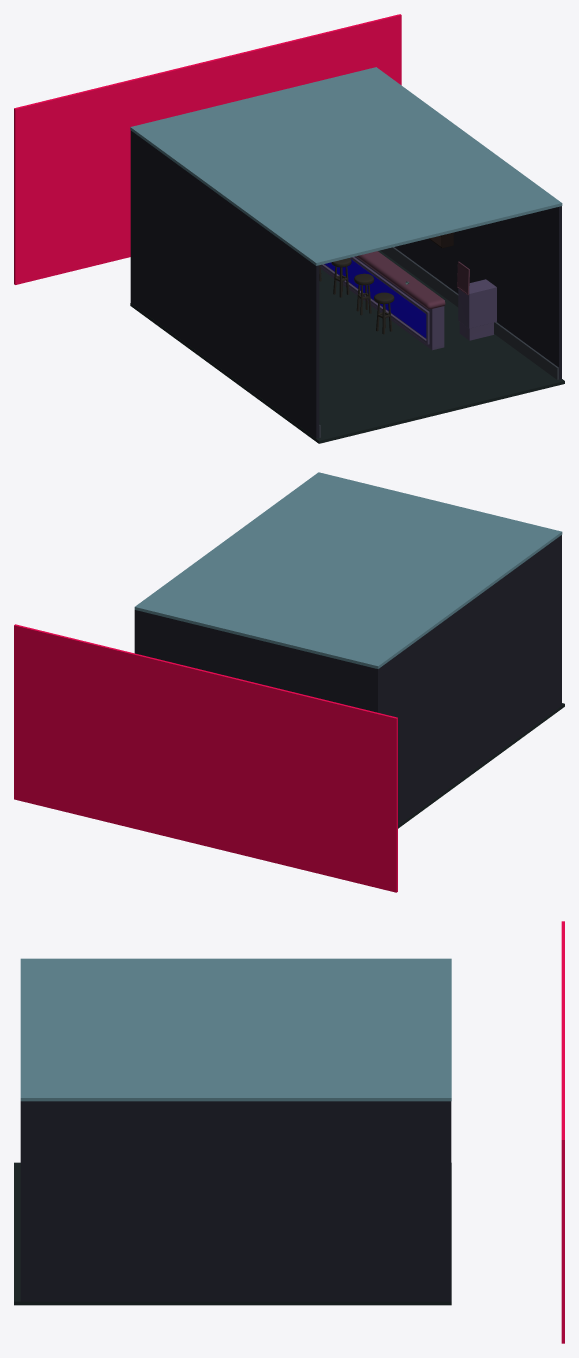
File: SciFiBar.obj
3 renders of one model, top to bottom at view 1: azimuth 30°, elevation 25°; view 2: azimuth 150°, elevation 25°; view 3: azimuth 270°, elevation 25°, orthographic. The views are drawn at different scales.
Parts seen in each view (by area): view 1: Floor2_Sky_0_173_0, Murallas_lambert5_0_155_0, Screen_Screen1_0_158_0, Floor1_Floor_0_171_0, polySurface12_Bar1_0_45_0, Murallas_Marco_0_156_0, Cuerpo_Bar1_0_38_0, Cuerpo_Bar_light_0_39_0, Cubierta_Cubierta1_0_36_0; view 2: Screen_Screen1_0_158_0, Floor2_Sky_0_173_0, Murallas_lambert5_0_155_0, Floor1_Floor_0_171_0; view 3: Murallas_lambert5_0_155_0, Floor2_Sky_0_173_0, Floor1_Floor_0_171_0, Screen_Screen1_0_158_0.
Boxes of the visible parts, box(x1,y1,x2,y2) form: Floor2_Sky_0_173_0: box(130, 67, 562, 265); Murallas_lambert5_0_155_0: box(130, 130, 561, 438); Screen_Screen1_0_158_0: box(14, 14, 401, 284); Floor1_Floor_0_171_0: box(130, 250, 564, 443); polySurface12_Bar1_0_45_0: box(458, 279, 496, 340); Murallas_Marco_0_156_0: box(319, 247, 558, 437); Cuerpo_Bar1_0_38_0: box(320, 256, 444, 350); Cuerpo_Bar_light_0_39_0: box(325, 259, 426, 338); Cubierta_Cubierta1_0_36_0: box(356, 251, 445, 309); Screen_Screen1_0_158_0: box(14, 624, 397, 892); Floor2_Sky_0_173_0: box(134, 472, 562, 668); Murallas_lambert5_0_155_0: box(134, 535, 561, 825); Floor1_Floor_0_171_0: box(398, 703, 564, 828); Murallas_lambert5_0_155_0: box(20, 1101, 451, 1301); Floor2_Sky_0_173_0: box(20, 958, 451, 1101); Floor1_Floor_0_171_0: box(14, 1162, 451, 1305); Screen_Screen1_0_158_0: box(561, 921, 564, 1343).
Bounding box in the file's own units: 0.9304 × 0.4114 × 0.9909.
